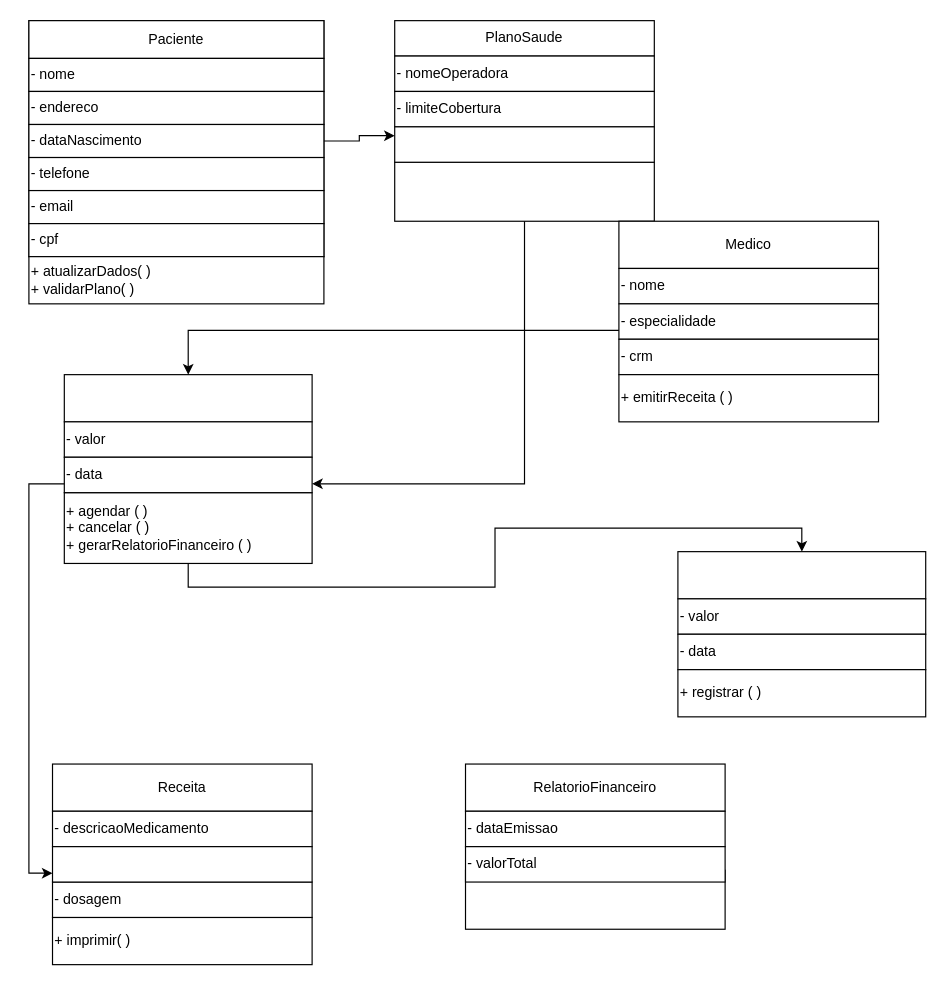
The diagram is 946 pixels wide and 985 high, and some of its shapes have lost their labels. Here are the shapes that lost their labels. From the top down, the box of each, then its label:
(394, 126, 654, 162): - dataVencimento
(394, 161, 654, 221): + estadoValido ( )
(63, 373, 312, 422): Consulta
(677, 550, 926, 599): Pagamento
(51, 845, 312, 882): - tempoTratamento
(464, 869, 725, 929): + consolidarConsulta( )
